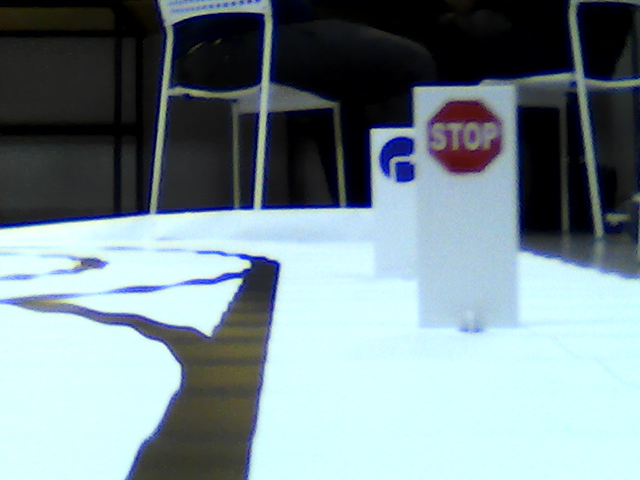Right: (378, 134, 419, 184)
Stop: (427, 97, 505, 178)
